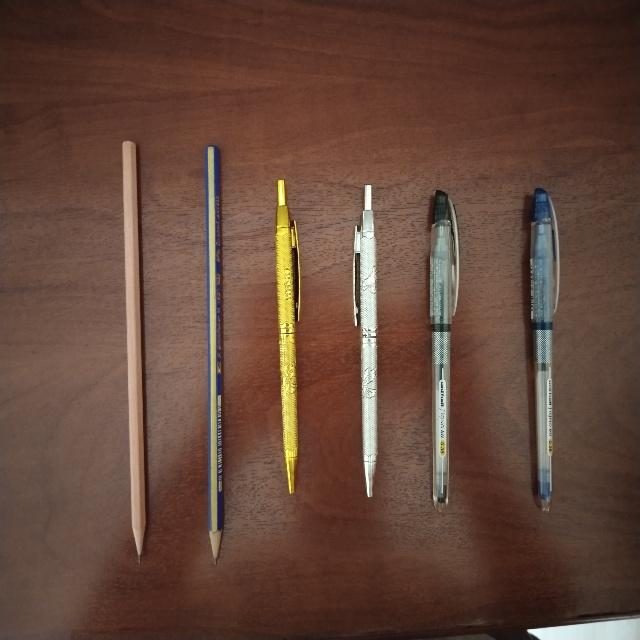pen: (430, 190, 459, 512), (530, 188, 558, 510)
pencil: (122, 141, 145, 559), (205, 146, 222, 562)
signature pen: (275, 180, 299, 492), (353, 185, 376, 496)
